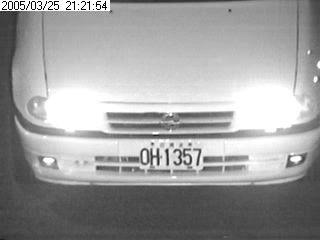plate: (137, 141, 205, 175)
